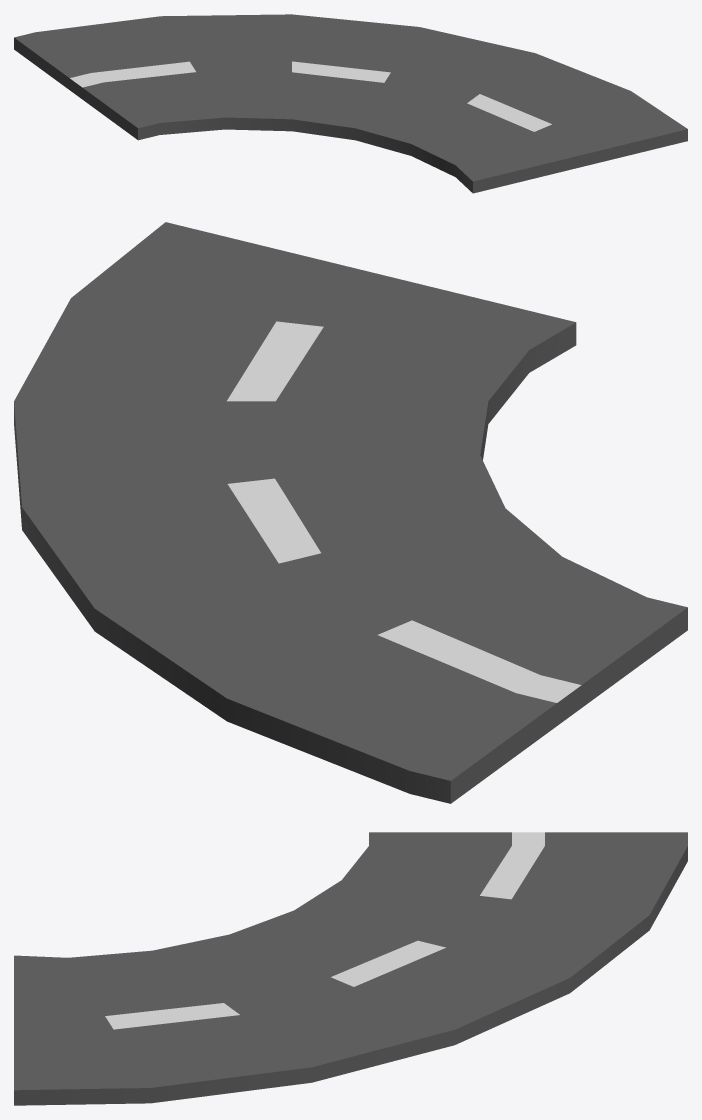
Rendered from RoadToLeft.fbx.
The picture shows the model from 3 angles, top to bottom: view 1: azimuth 30°, elevation 25°; view 2: azimuth 150°, elevation 25°; view 3: azimuth 270°, elevation 25°; orthographic projection. The views are drawn at different scales.
Parts seen in each view (by area): view 1: RoadToLeft; view 2: RoadToLeft; view 3: RoadToLeft.
Boxes of the visible parts, left/top/right/bottom form: RoadToLeft: left=14, top=14, right=687, bottom=193; RoadToLeft: left=14, top=222, right=687, bottom=803; RoadToLeft: left=14, top=832, right=687, bottom=1105.
Bounding box in the file's own units: 28.81 × 0.8039 × 31.81.
